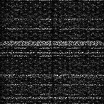lte: (1, 40, 104, 46), (1, 74, 104, 78), (1, 95, 104, 99), (1, 26, 104, 30)
